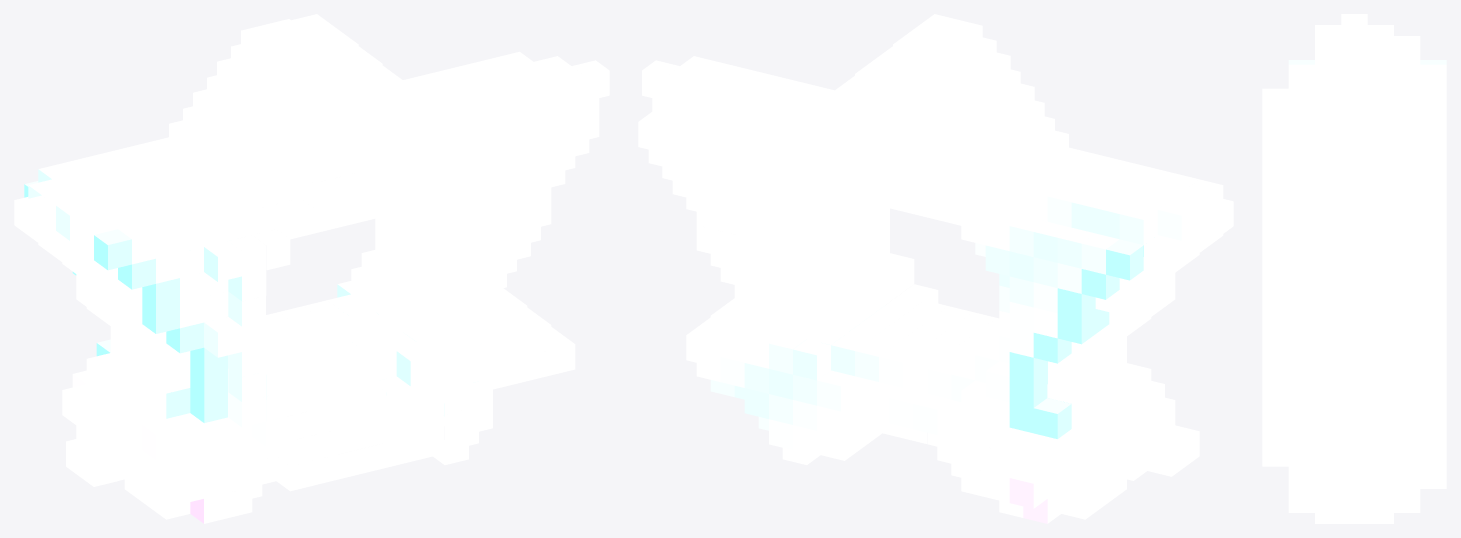
The model's file is 38_constellation_spectra.glb.
3 views of the same model, side by side, from view 1: azimuth 30°, elevation 25°; view 2: azimuth 150°, elevation 25°; view 3: azimuth 270°, elevation 25° (orthographic). The views are drawn at different scales.
Size of the model in its own units: 24 by 17 by 7.
